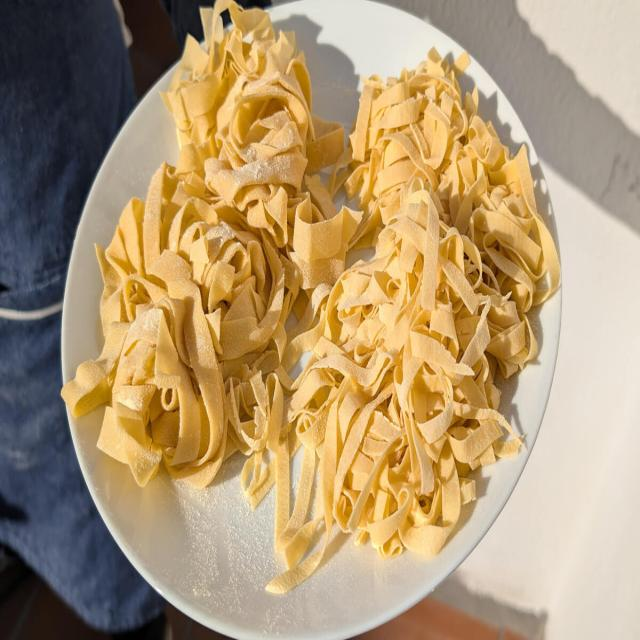pasta: (105, 9, 525, 534)
